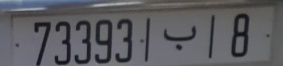3: (113, 17, 135, 64), (73, 18, 93, 65), (53, 19, 73, 65)
7: (33, 20, 52, 66)
8: (230, 12, 250, 59)
9: (90, 18, 115, 65)
b: (160, 23, 200, 52)
